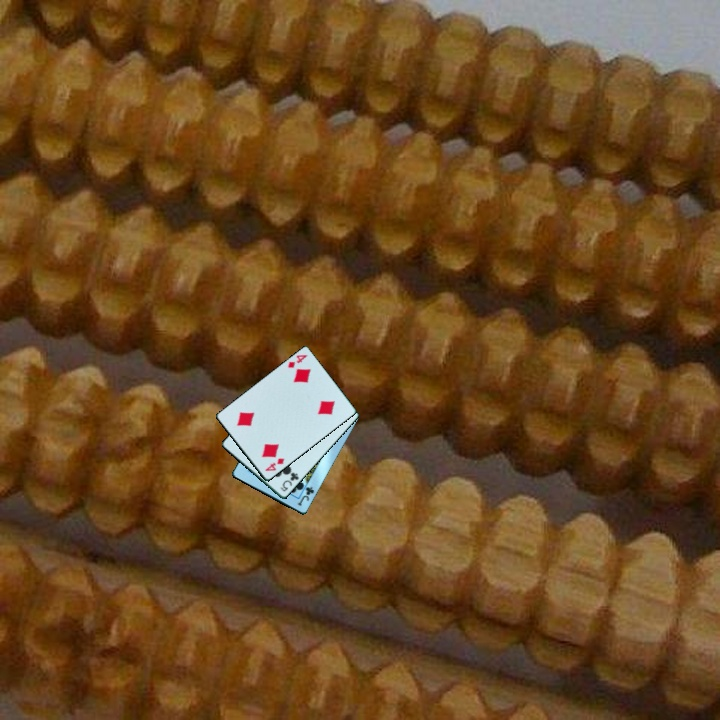4d: (284, 351, 310, 371), (262, 455, 287, 474)
5c: (277, 469, 302, 495)
Jc: (294, 483, 317, 509)
